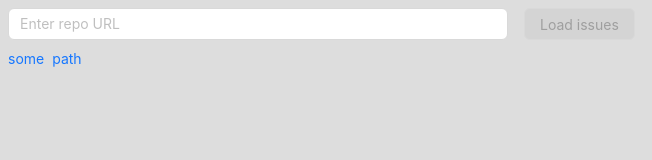
Test: SearchForm › input correct url
Type "http://github.com" into the field. click: point(258, 24)
box: [8,8,508,40]
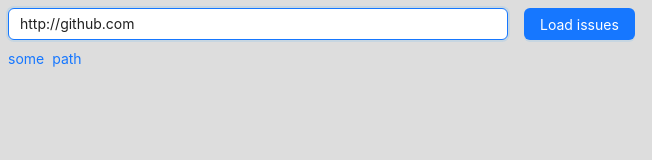
Check: the button is enabled, box [524,8,635,40]
